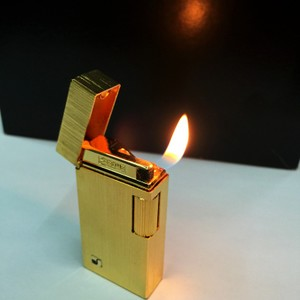fire: (154, 105, 193, 179)
